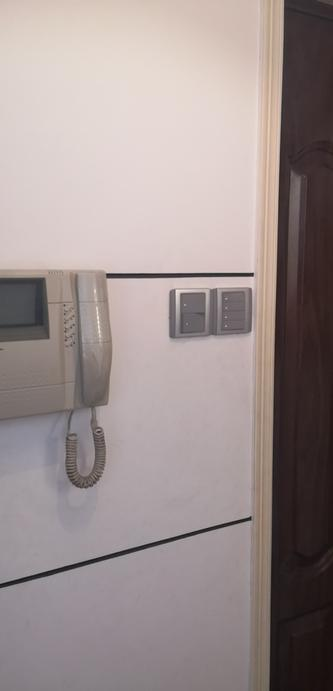switch: (178, 293, 207, 314), (178, 315, 210, 332), (217, 319, 251, 329), (221, 292, 248, 301), (221, 303, 248, 311), (221, 312, 248, 319)
